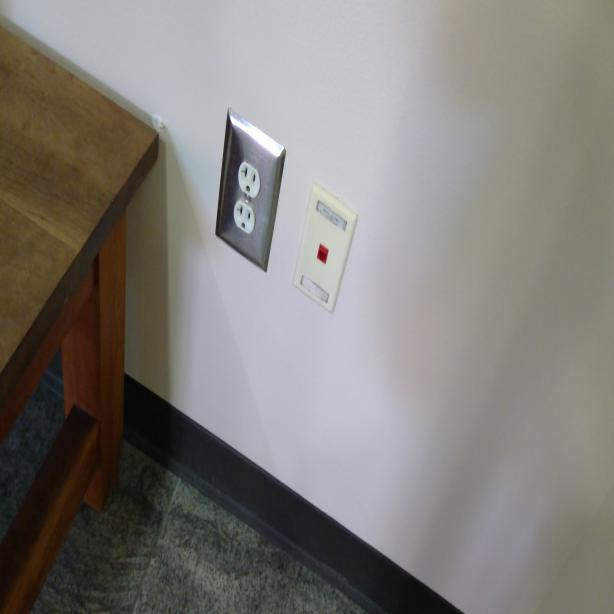typeb: (238, 160, 261, 194), (236, 202, 252, 235)
